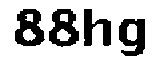8: (9, 7, 45, 49), (46, 7, 80, 49)
g: (116, 14, 147, 60)
h: (83, 6, 114, 53)
